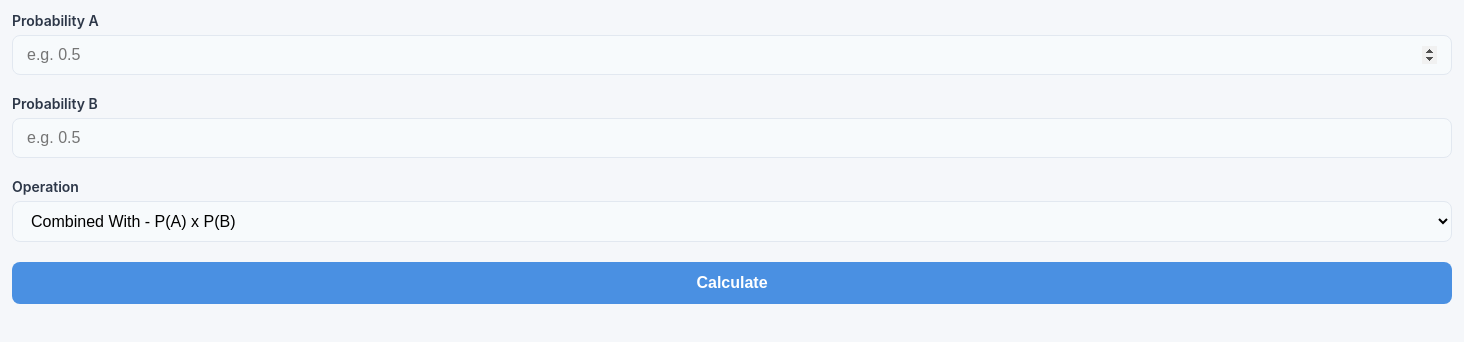
CalculatorForm › shows error when probability has more than 15 decimal places
This screenshot has width=1464, height=342.
Type "0.1234567890123456" into the number field labelled "Probability A" at (732, 55), box [12,35,1452,75]
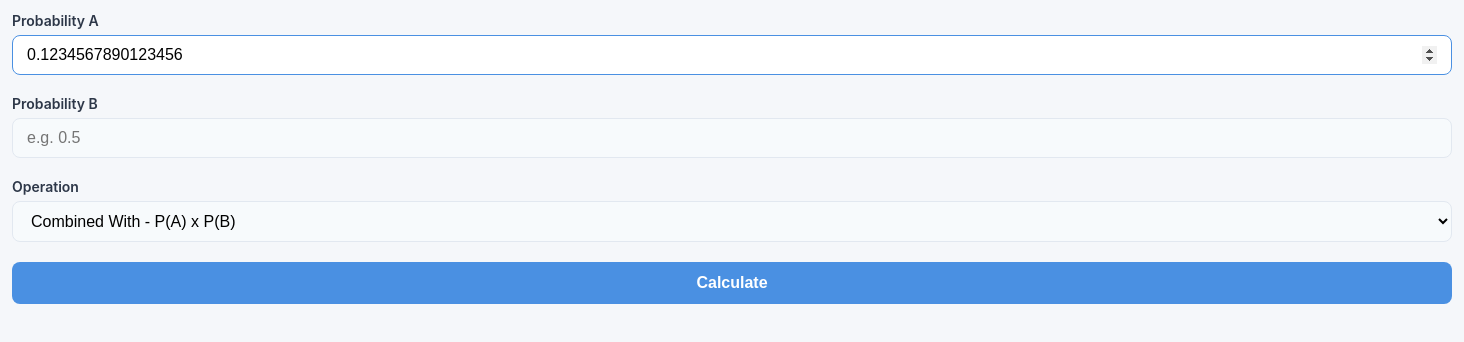
Type "0.5" into the number field labelled "Probability B" at (732, 138), box [12,118,1452,158]
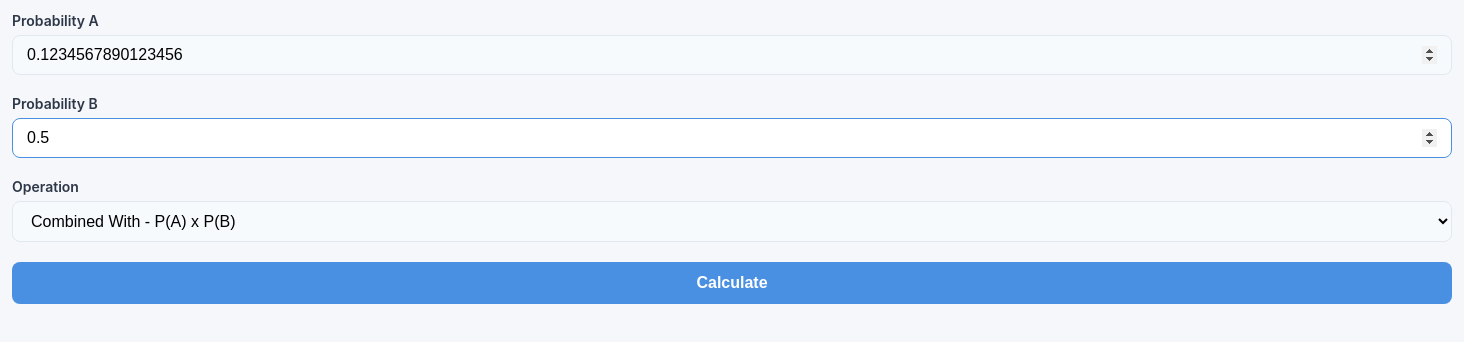
Click the button "Calculate" at (732, 283), box [12,262,1452,304]
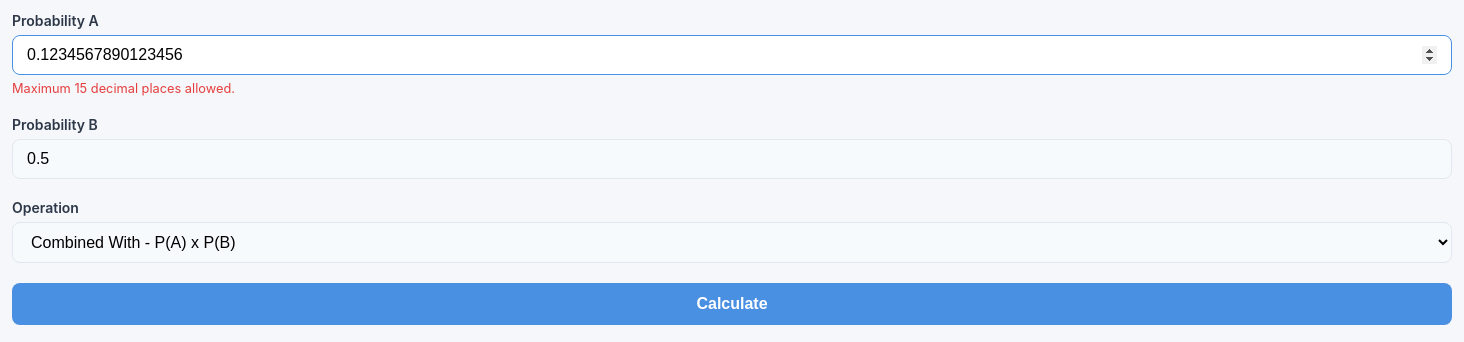
Check: the text "Maximum 15 decimal places allowed." is shown, box [12,81,235,96]
